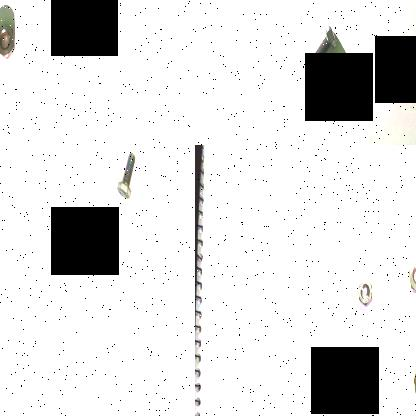Bolts: (115, 146, 138, 200), (312, 22, 338, 68)
NUTS: (354, 276, 375, 314), (0, 22, 18, 62), (57, 8, 75, 42), (407, 255, 416, 297)
